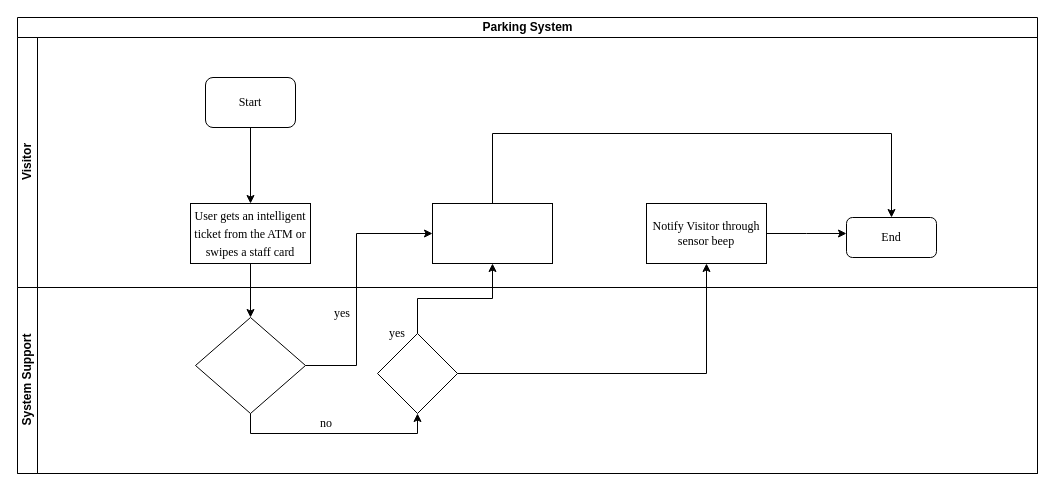
Some shapes in this 1055 by 491 pixel diagram are drawn without their labels. Here are the shapes that lost their labels. From the top down, the centre of each, then its label:
At point 492,233: "Proceed to parking".
At point 250,365: "Visitor has reserved parking?".
At point 417,373: "Is space available?".
